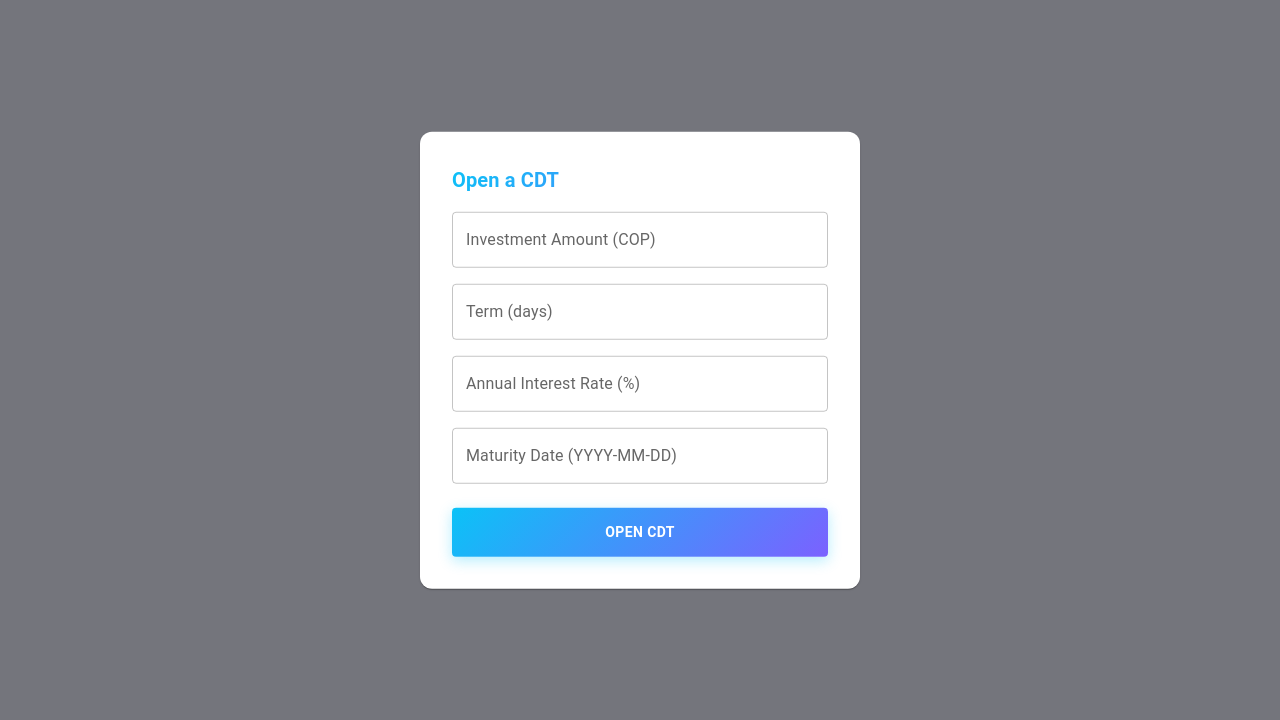
Test case: OpenCdtModal › shows API error on submission failure
The image size is (1280, 720).
Type "2000000" into the field with test id "open-cdt-modal-amount" at (640, 240), box [452,212,828,268]
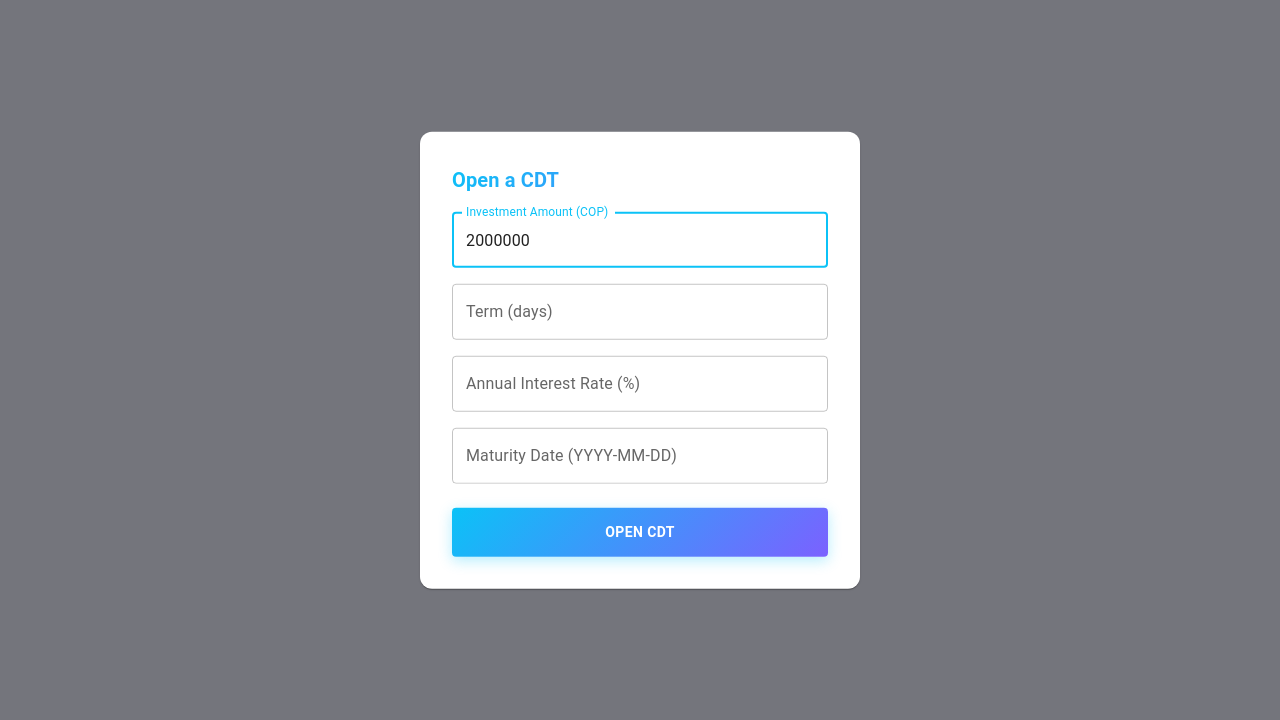
Type "180" into the field with test id "open-cdt-modal-term-days" at (640, 312), box [452,284,828,340]
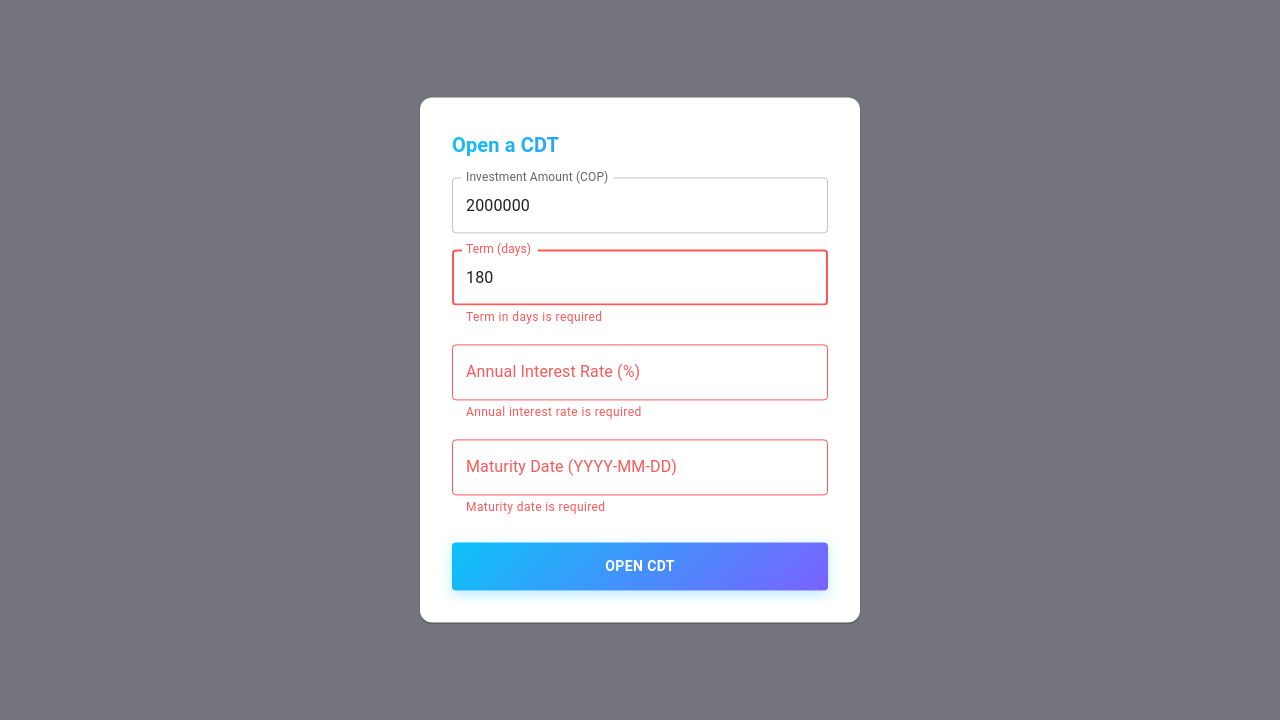
Type "8" into the field with test id "open-cdt-modal-annual-rate" at (640, 372), box [452,344,828,400]
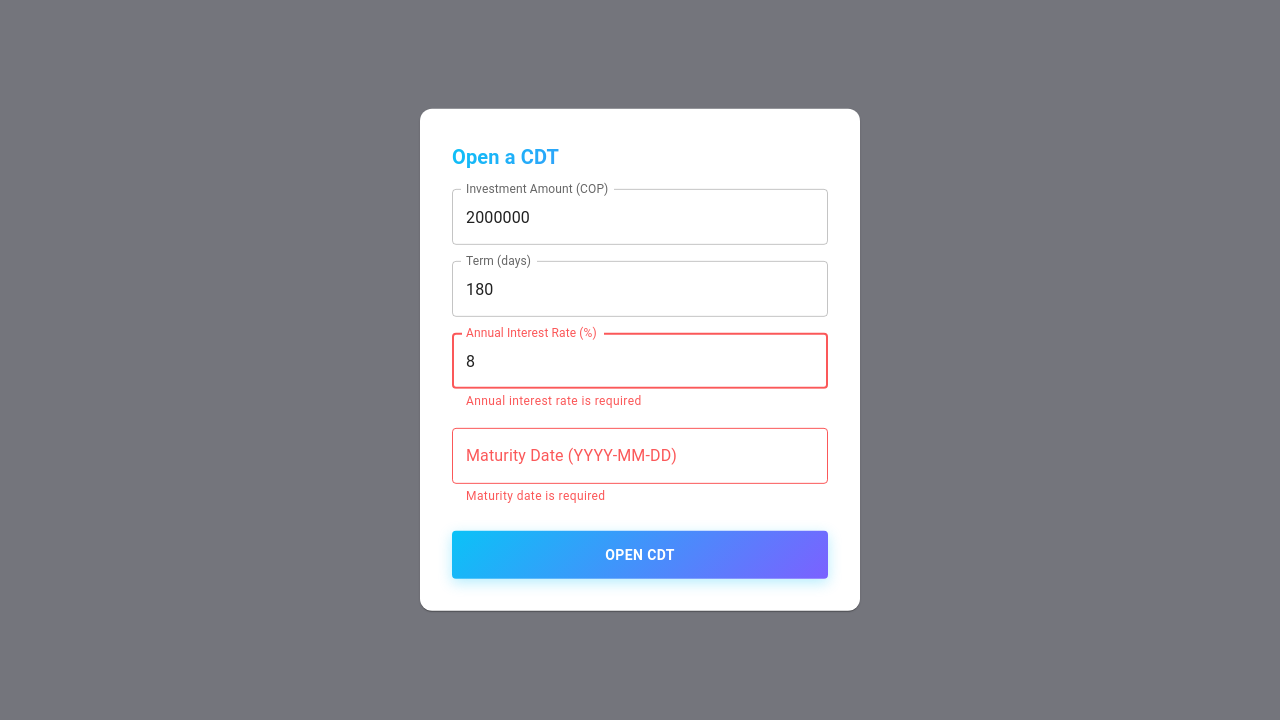
Type "2027-01-01" into the field with test id "open-cdt-modal-maturity-date" at (640, 456), box [452,428,828,484]
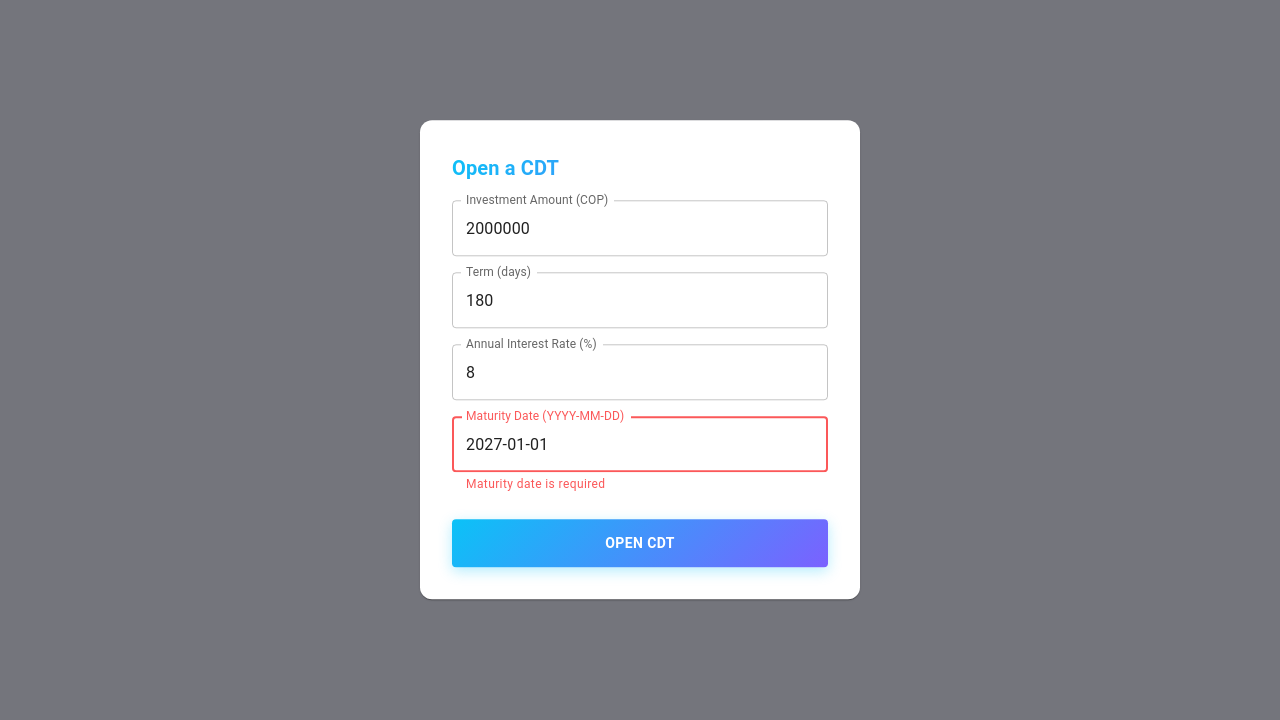
Click the button with test id "open-cdt-modal-submit" at (640, 543), box [452,519,828,568]
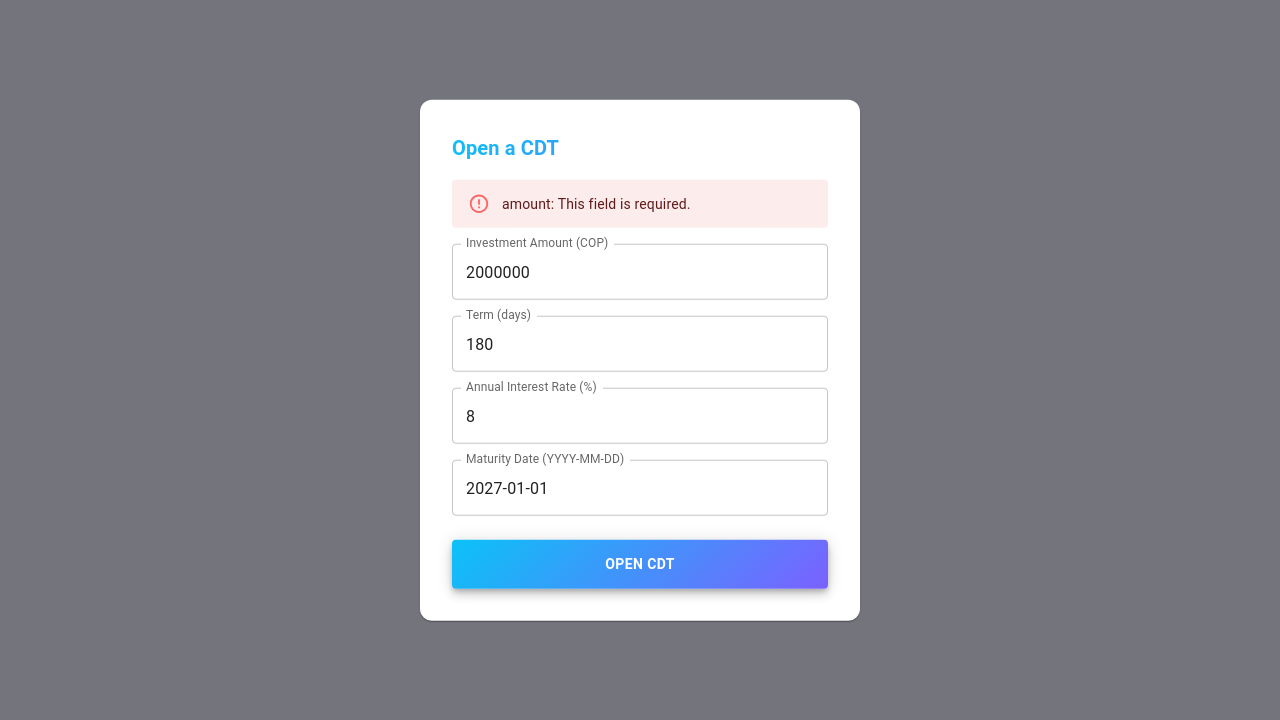
Now the element with test id "open-cdt-modal-error" is shown, box [452,180,828,228]
